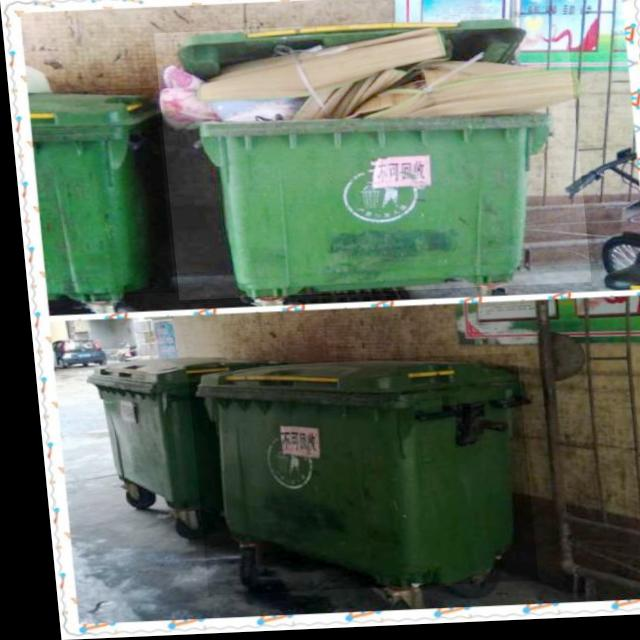garbage_bin: (179, 357, 527, 596), (76, 353, 285, 512), (25, 89, 169, 298)
overflow: (153, 20, 585, 302)
